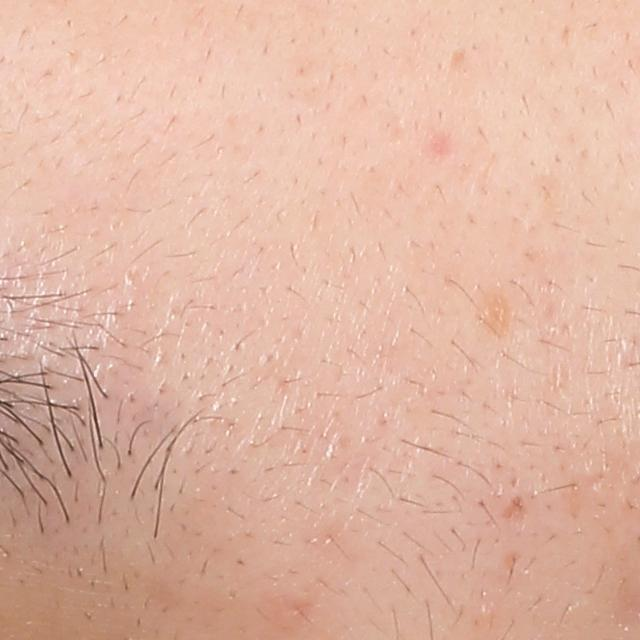atrophic_scar: (424, 130, 462, 166), (501, 494, 528, 526)
